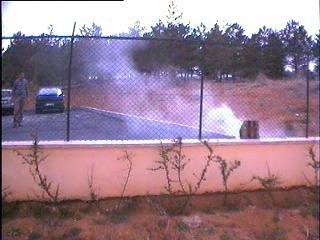smoke: (92, 32, 286, 144)
